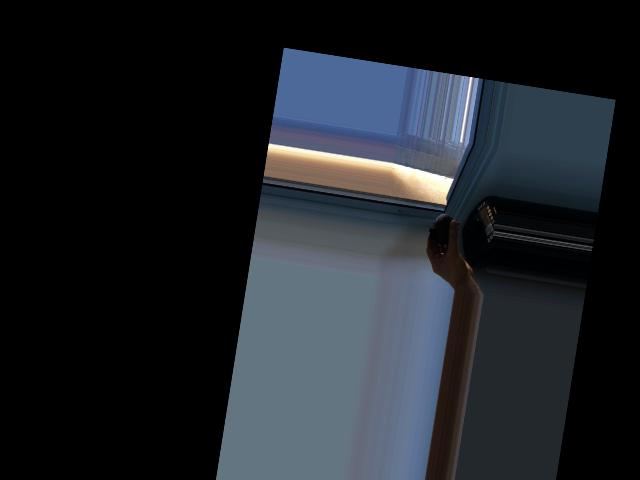beet: (427, 211, 462, 250)
